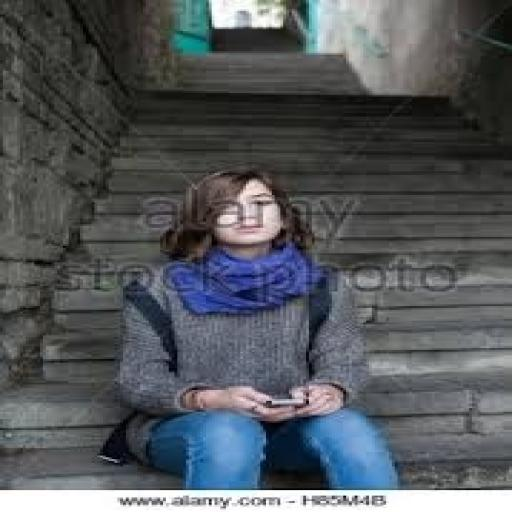sitting: (109, 164, 403, 490)
